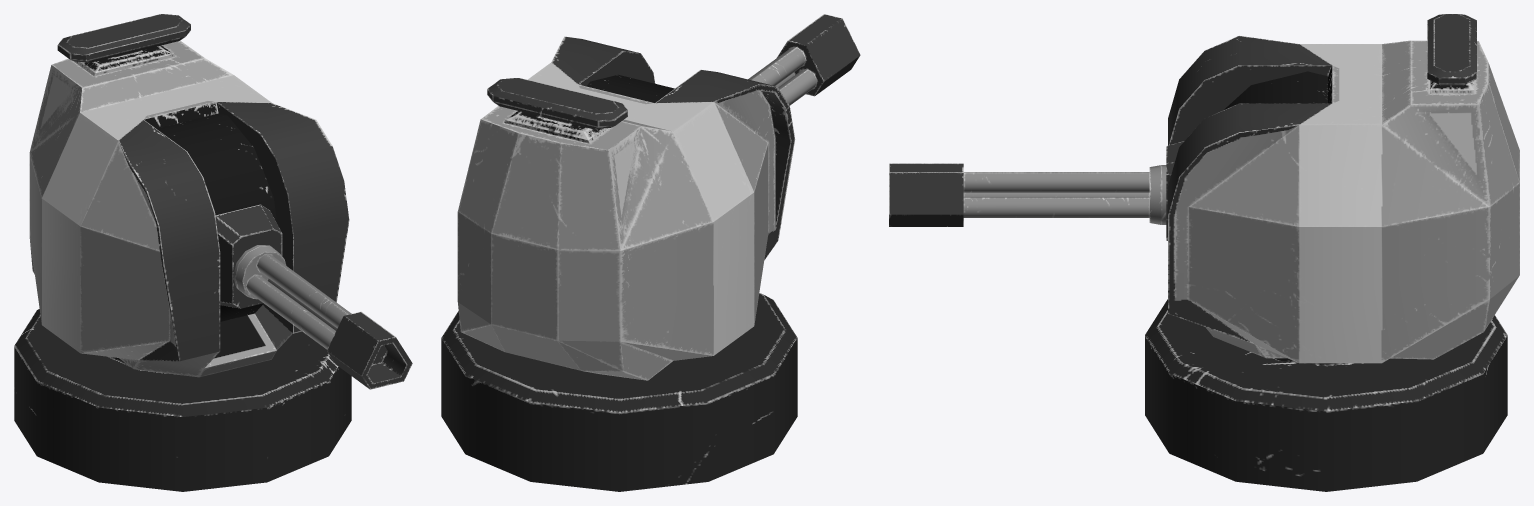
File: 20mm PD Turret.fbx
3 renders of one model, left to right at view 1: azimuth 30°, elevation 25°; view 2: azimuth 150°, elevation 25°; view 3: azimuth 270°, elevation 25°, orthographic. The views are drawn at different scales.
Visible parts, largest first — view 1: 20mm Turret, 20mm Base, 20mm Roller, 20mm Barrel; view 2: 20mm Turret, 20mm Base, 20mm Barrel, 20mm Roller; view 3: 20mm Turret, 20mm Base, 20mm Barrel, 20mm Roller.
Part boxes in pixels (left/top/right/bottom): 20mm Turret: left=29, top=14, right=349, bottom=377; 20mm Base: left=14, top=309, right=351, bottom=491; 20mm Roller: left=156, top=113, right=282, bottom=321; 20mm Barrel: left=233, top=245, right=412, bottom=389; 20mm Turret: left=457, top=36, right=795, bottom=380; 20mm Base: left=441, top=293, right=797, bottom=491; 20mm Barrel: left=748, top=14, right=860, bottom=105; 20mm Roller: left=586, top=74, right=674, bottom=102; 20mm Turret: left=1168, top=14, right=1519, bottom=363; 20mm Base: left=1145, top=299, right=1507, bottom=491; 20mm Barrel: left=889, top=163, right=1166, bottom=226; 20mm Roller: left=1166, top=71, right=1327, bottom=240.
Size of the model in its own units: 159 by 276 by 180.
